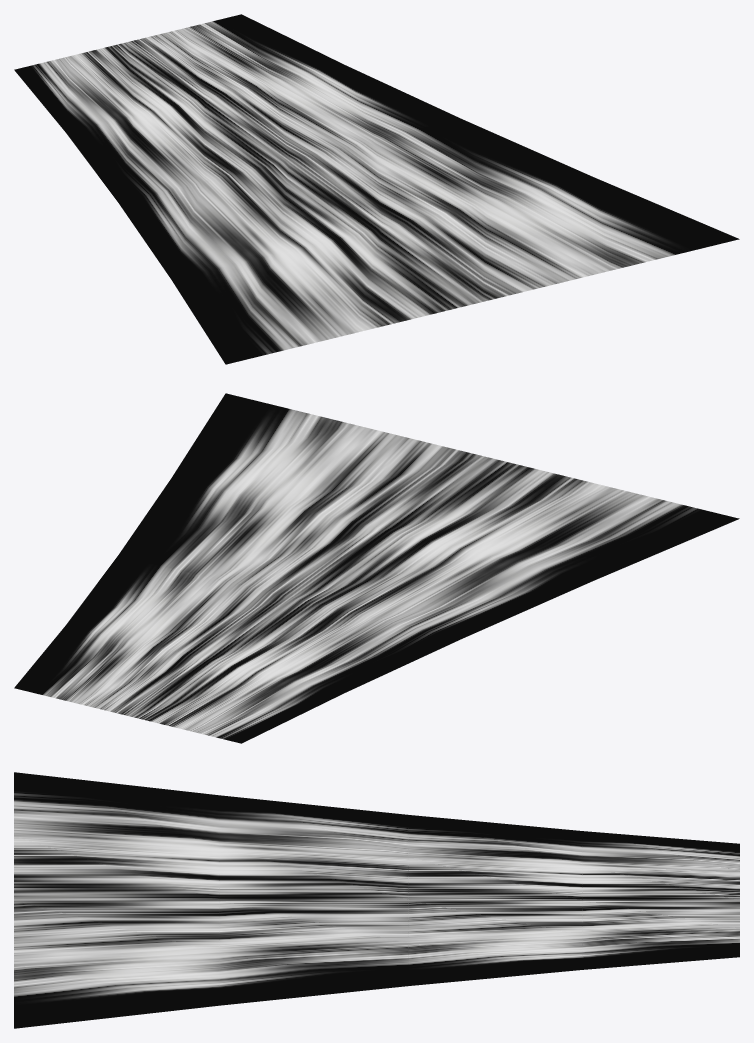
The model's file is dai_002.FBX.
3 views of the same model, one above another, from view 1: azimuth 30°, elevation 25°; view 2: azimuth 150°, elevation 25°; view 3: azimuth 270°, elevation 25° (orthographic). The views are drawn at different scales.
Visible parts, largest first — view 1: Plane002; view 2: Plane002; view 3: Plane002.
Boxes of the visible parts, x1,y1,x2,y2 form: Plane002: (14,14,739,364); Plane002: (14,393,739,743); Plane002: (14,772,739,1028).
Size of the model in its own units: 96.49 by 3.27e-14 by 115.
